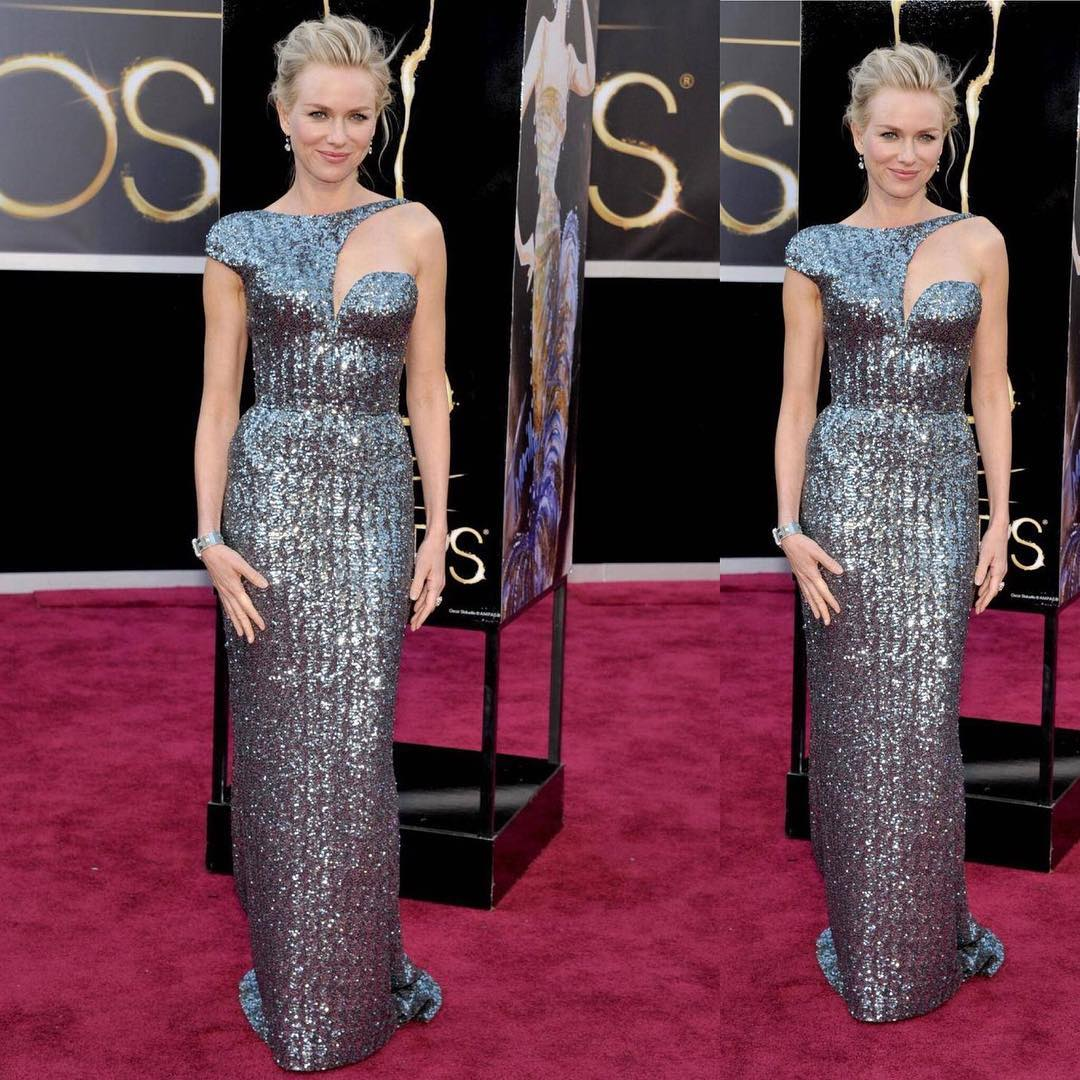hand: (206, 548, 260, 637)
